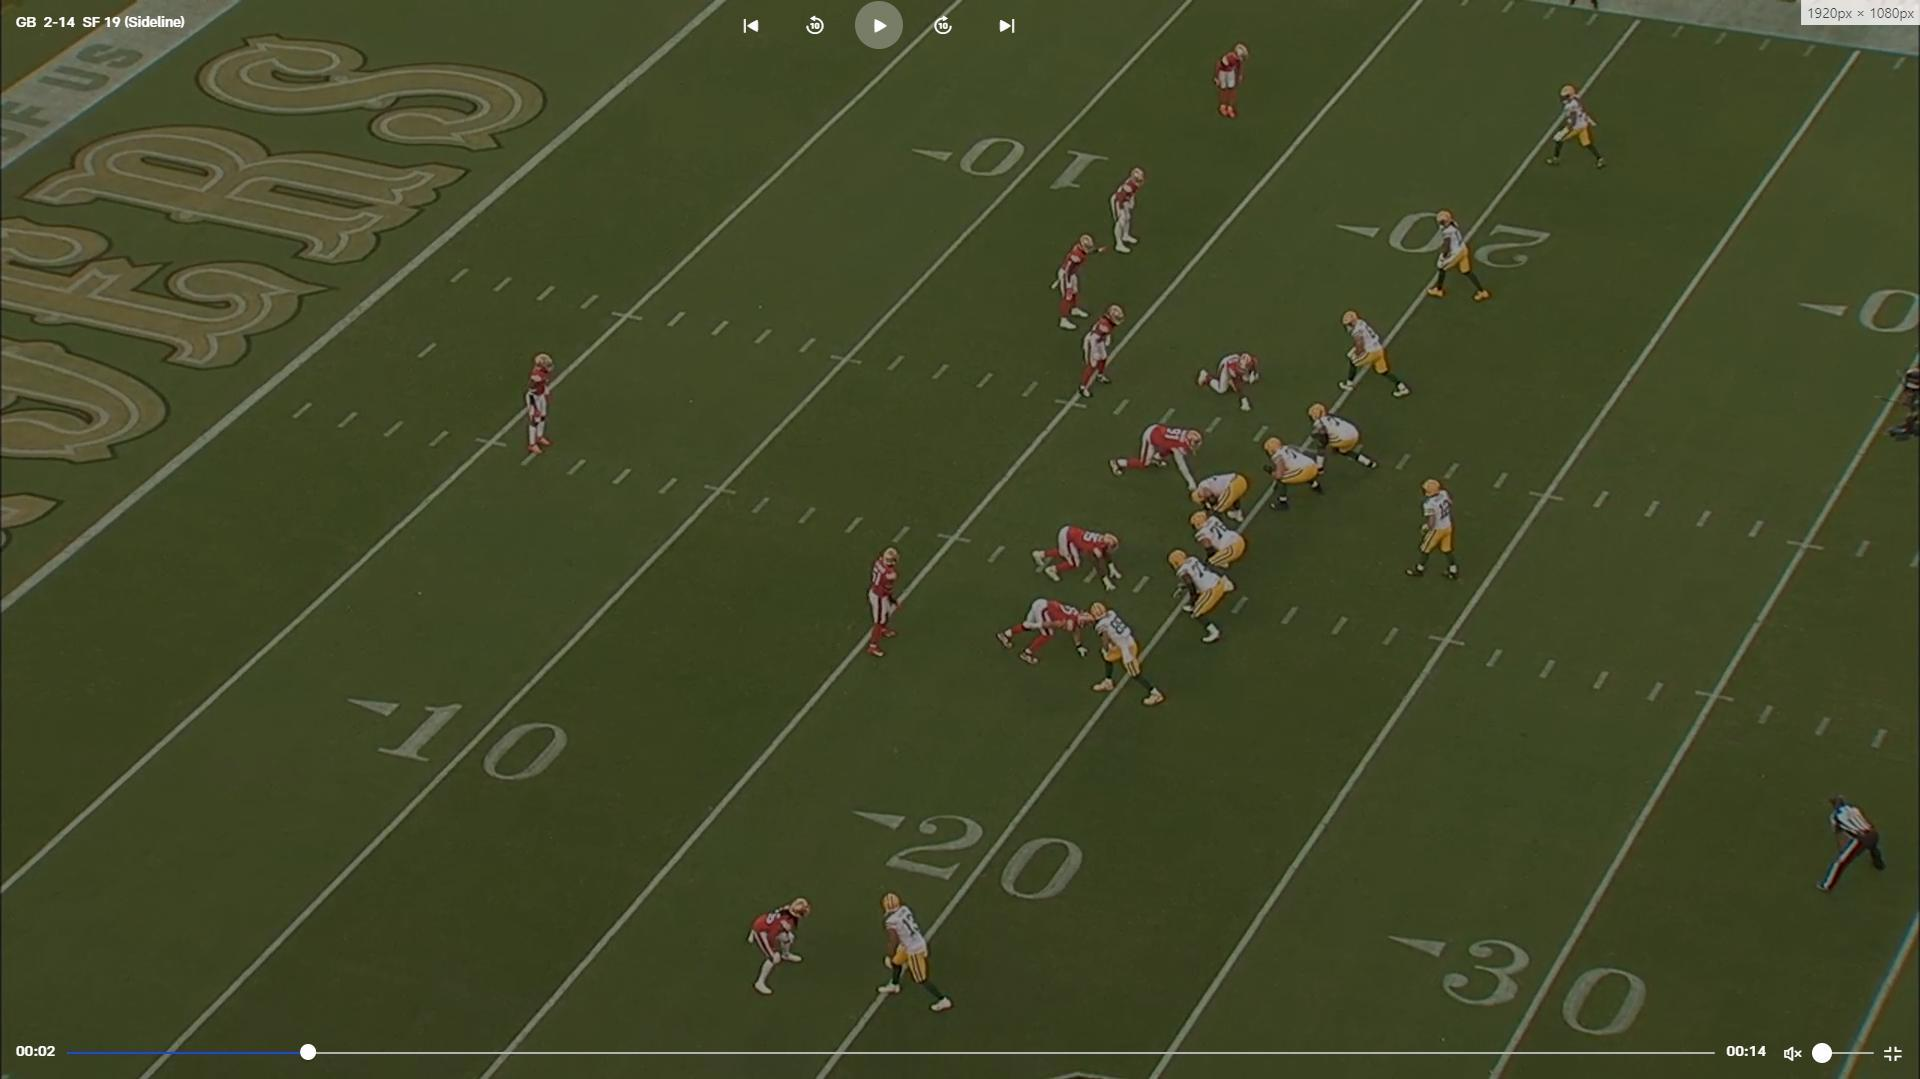defense: (1000, 598, 1100, 670), (1108, 422, 1207, 494), (747, 896, 814, 998), (1036, 525, 1126, 594), (861, 543, 908, 661), (1074, 303, 1125, 406), (519, 351, 564, 463), (1190, 348, 1262, 416), (1053, 232, 1098, 335), (1104, 164, 1149, 260), (1216, 39, 1256, 124)
oline: (1167, 546, 1235, 649), (1256, 435, 1328, 518), (1310, 402, 1383, 478), (1187, 508, 1249, 592), (1186, 464, 1249, 526)
qb: (1408, 476, 1468, 583)
ref: (1814, 790, 1890, 896)
skill: (878, 888, 959, 1022), (1086, 601, 1166, 713), (1339, 306, 1415, 402), (1426, 206, 1494, 306), (1547, 80, 1610, 169)
